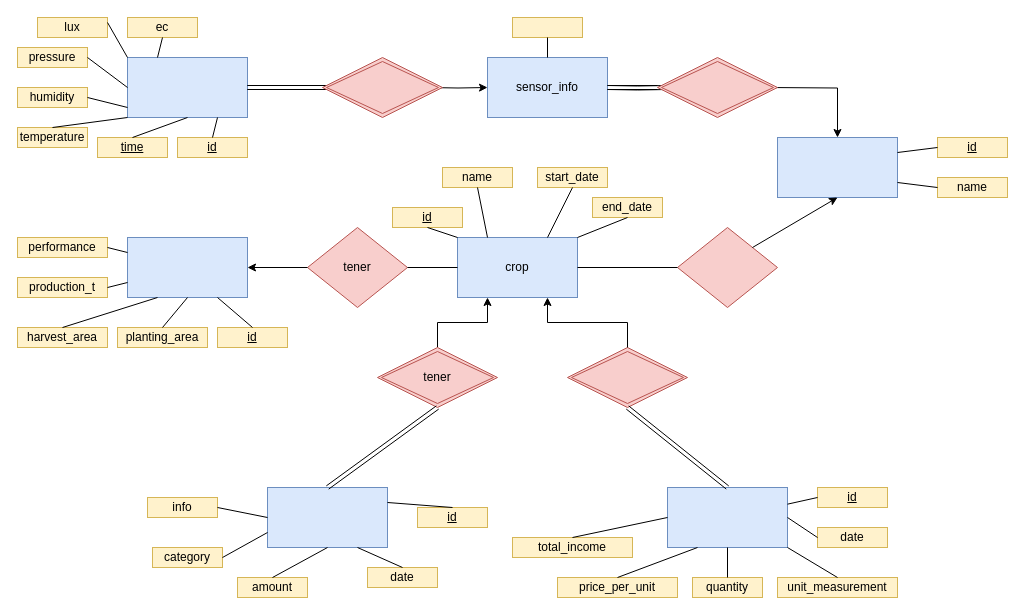
Some shapes in this 1025 by 615 pixel diagram are drawn without their labels. Each missing label, with the centre of its shape:
albergar: the point at 727,267
contener: the point at 717,87
expenses: the point at 327,517
generar: the point at 382,87
measurement: the point at 187,87
producir: the point at 627,377
production: the point at 187,267
sales: the point at 727,517
sensor_id: the point at 547,27
zone: the point at 837,167
